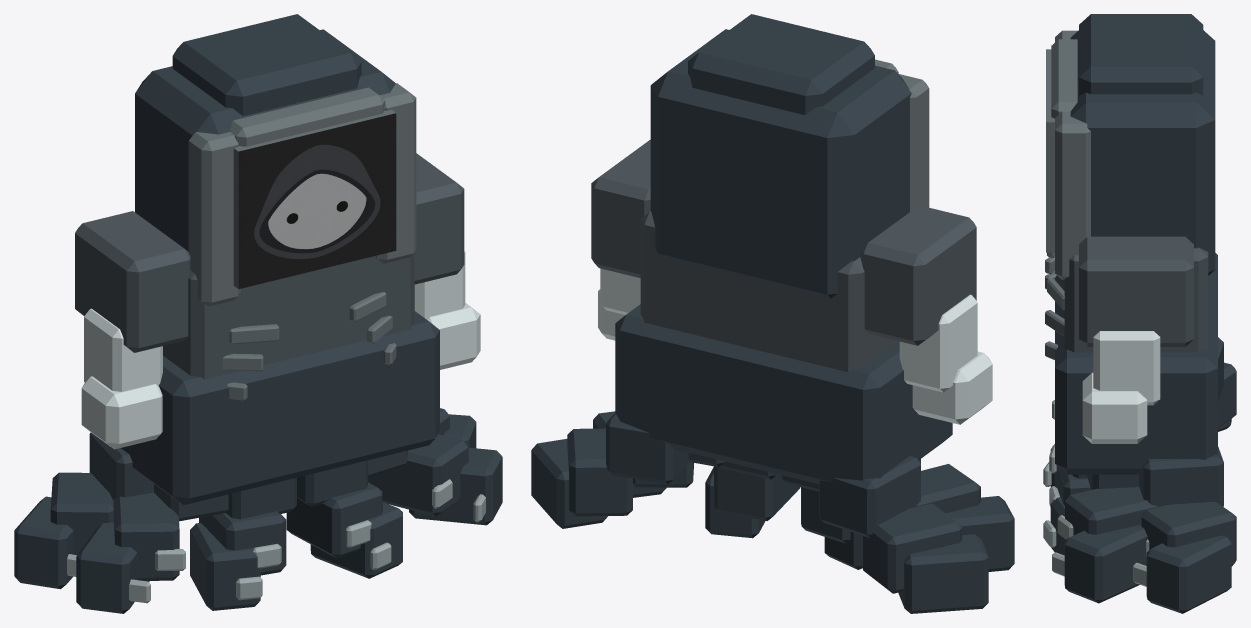
The model's file is takosan.glb.
3 views of the same model, side by side, from view 1: azimuth 30°, elevation 25°; view 2: azimuth 150°, elevation 25°; view 3: azimuth 270°, elevation 25° (orthographic). The views are drawn at different scales.
Visible parts, largest first — view 1: TakosanVoxel_RobeLower, TakosanVoxel_FacePanel, TakosanVoxel_RobeUpper, TakosanVoxel_HoodTop, TakosanVoxel_SecondarySleeve, TakosanVoxel_HoodBack, TakosanVoxel_HoodLeft, TakosanVoxel_PrimarySleeve, TakosanVoxel_Tentacle_3_Segment_1, TakosanVoxel_SecondaryHand, TakosanVoxel_HoodBrow, TakosanVoxel_Tentacle_0_Segment_2 (+22 smaller); view 2: TakosanVoxel_HoodBack, TakosanVoxel_RobeLower, TakosanVoxel_RobeUpper, TakosanVoxel_HoodTop, TakosanVoxel_SecondarySleeve, TakosanVoxel_PrimarySleeve, TakosanVoxel_Tentacle_4_Segment_2, TakosanVoxel_Tentacle_4_Segment_0, TakosanVoxel_Tentacle_4_Segment_1, TakosanVoxel_SecondaryForearm, TakosanVoxel_Tentacle_5_Segment_1, TakosanVoxel_Tentacle_5_Segment_0 (+10 smaller); view 3: TakosanVoxel_HoodBack, TakosanVoxel_RobeLower, TakosanVoxel_PrimarySleeve, TakosanVoxel_HoodTop, TakosanVoxel_Tentacle_5_Segment_2, TakosanVoxel_HoodRight, TakosanVoxel_Tentacle_3_Segment_2, TakosanVoxel_PrimaryForearm, TakosanVoxel_Tentacle_5_Segment_0, TakosanVoxel_Tentacle_5_Segment_1, TakosanVoxel_PrimaryHand, TakosanVoxel_Tentacle_3_Segment_1 (+13 smaller).
Boxes of the visible parts, left/top/right/bottom form: TakosanVoxel_RobeLower: left=121, top=311, right=439, bottom=505; TakosanVoxel_FacePanel: left=233, top=109, right=396, bottom=289; TakosanVoxel_RobeUpper: left=163, top=252, right=414, bottom=379; TakosanVoxel_HoodTop: left=172, top=14, right=361, bottom=116; TakosanVoxel_SecondarySleeve: left=75, top=211, right=190, bottom=352; TakosanVoxel_HoodBack: left=135, top=29, right=395, bottom=251; TakosanVoxel_HoodLeft: left=188, top=132, right=240, bottom=306; TakosanVoxel_PrimarySleeve: left=414, top=153, right=464, bottom=284; TakosanVoxel_Tentacle_3_Segment_1: left=368, top=434, right=468, bottom=516; TakosanVoxel_SecondaryHand: left=81, top=376, right=162, bottom=449; TakosanVoxel_HoodBrow: left=230, top=87, right=385, bottom=146; TakosanVoxel_Tentacle_0_Segment_2: left=76, top=522, right=149, bottom=613; TakosanVoxel_HoodBack: left=650, top=29, right=911, bottom=298; TakosanVoxel_RobeLower: left=615, top=304, right=952, bottom=484; TakosanVoxel_RobeUpper: left=640, top=211, right=898, bottom=372; TakosanVoxel_HoodTop: left=688, top=14, right=874, bottom=115; TakosanVoxel_SecondarySleeve: left=860, top=205, right=976, bottom=345; TakosanVoxel_PrimarySleeve: left=591, top=139, right=650, bottom=277; TakosanVoxel_Tentacle_4_Segment_2: left=898, top=534, right=988, bottom=613; TakosanVoxel_Tentacle_4_Segment_0: left=819, top=455, right=920, bottom=537; TakosanVoxel_Tentacle_4_Segment_1: left=863, top=503, right=962, bottom=593; TakosanVoxel_SecondaryForearm: left=899, top=294, right=977, bottom=392; TakosanVoxel_Tentacle_5_Segment_1: left=567, top=428, right=632, bottom=516; TakosanVoxel_Tentacle_5_Segment_0: left=606, top=413, right=690, bottom=484; TakosanVoxel_HoodBack: left=1070, top=30, right=1215, bottom=275; TakosanVoxel_RobeLower: left=1055, top=253, right=1217, bottom=474; TakosanVoxel_PrimarySleeve: left=1079, top=236, right=1193, bottom=346; TakosanVoxel_HoodTop: left=1079, top=14, right=1203, bottom=95; TakosanVoxel_Tentacle_5_Segment_2: left=1146, top=535, right=1231, bottom=613; TakosanVoxel_HoodRight: left=1055, top=111, right=1090, bottom=279; TakosanVoxel_Tentacle_3_Segment_2: left=1064, top=525, right=1147, bottom=603; TakosanVoxel_PrimaryForearm: left=1093, top=331, right=1160, bottom=405; TakosanVoxel_Tentacle_5_Segment_0: left=1139, top=446, right=1223, bottom=507; TakosanVoxel_Tentacle_5_Segment_1: left=1141, top=501, right=1236, bottom=566; TakosanVoxel_PrimaryHand: left=1082, top=372, right=1147, bottom=443; TakosanVoxel_Tentacle_3_Segment_1: left=1065, top=487, right=1157, bottom=540.
Bounding box in the file's own units: 2.09 × 2.24 × 0.8073.
Materials: 6 (1 with a texture image).
